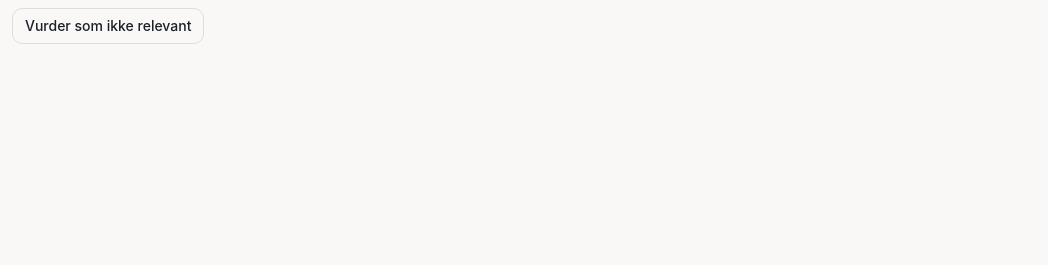
Test: Relevance assessment admin action › requires a reason and writes only a person assessment with an idempotency key
Click the button "Vurder som ikke relevant": point(108, 26) [12, 8, 204, 44]
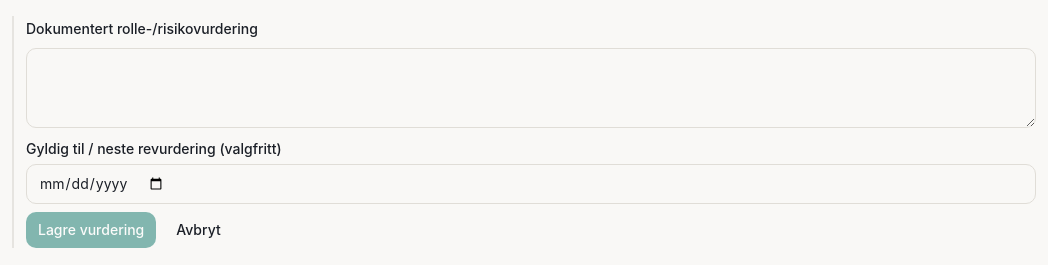
Result: the button "Lagre vurdering" is disabled at [26, 212, 156, 248]
In the text box labelled "Dokumentert rolle-/risikovurdering": point(531, 88) [26, 48, 1036, 128], type "Kontorrolle uten eksponering"
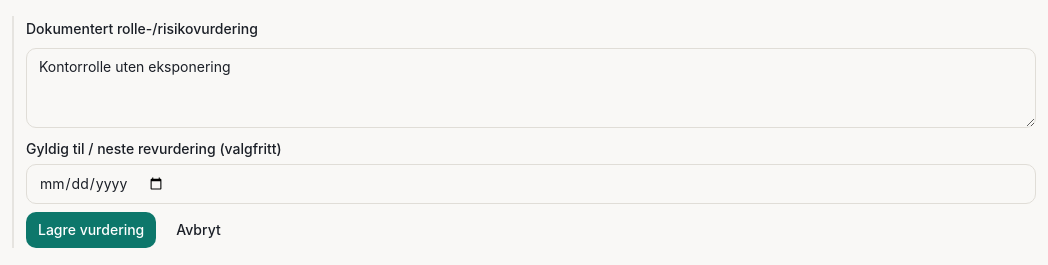
Click the button "Lagre vurdering": point(91, 230) [26, 212, 156, 248]
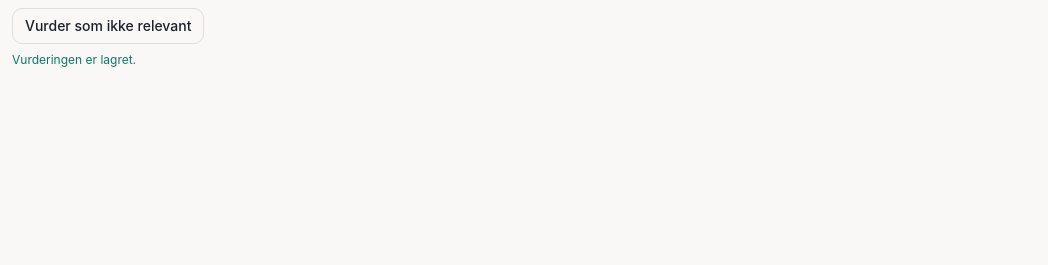
Result: the message "Vurderingen er lagret." is shown at [12, 52, 136, 67]
